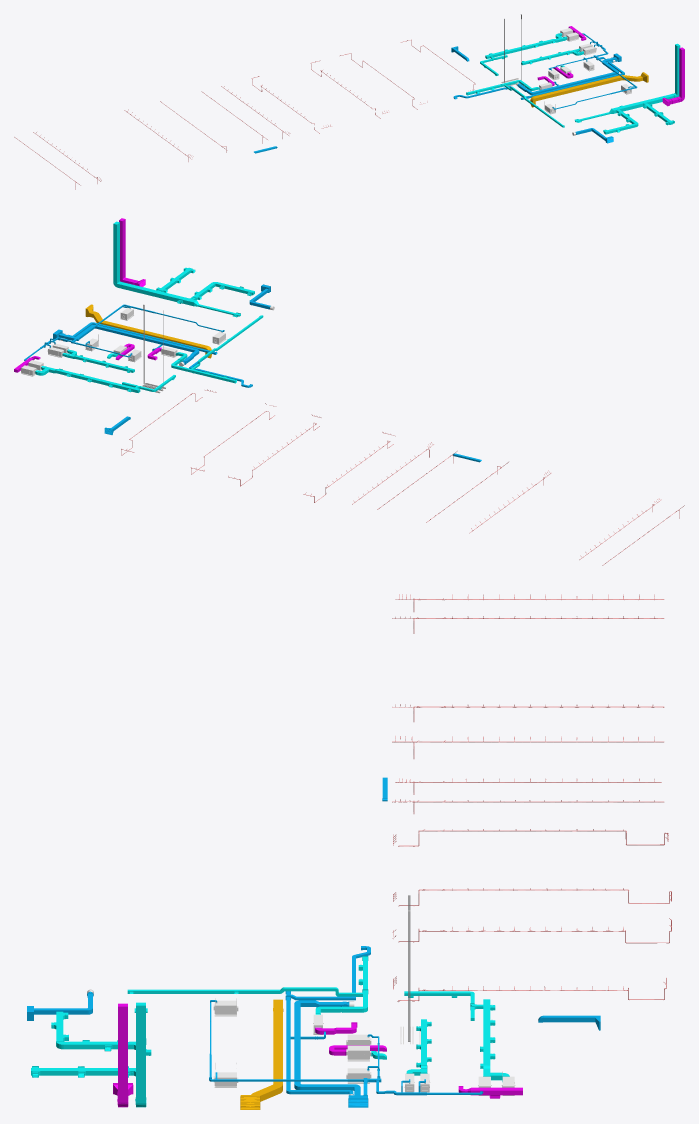
The model's file is detail-ducts-lite-2-1f.glb.
3 renders of one model, top to bottom at view 1: azimuth 30°, elevation 25°; view 2: azimuth 150°, elevation 25°; view 3: azimuth 270°, elevation 25°, orthographic. The views are drawn at different scales.
Bounding box in the file's own units: 127 × 15.43 × 66.27.
